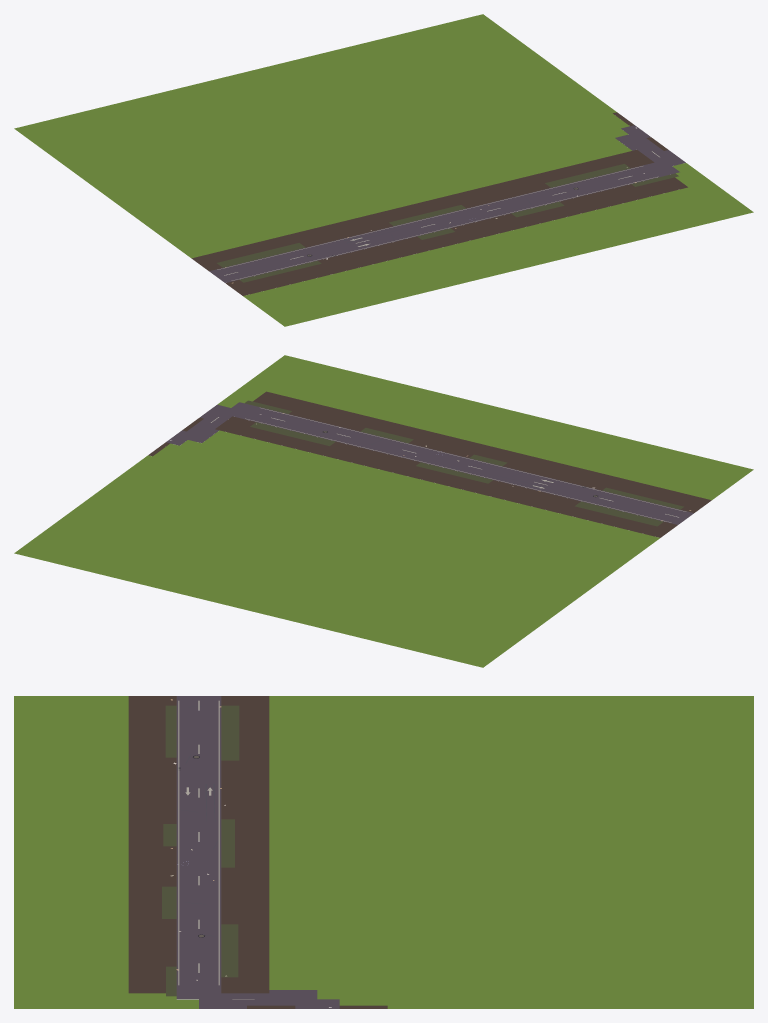
The model's file is cure-32-1.glb.
3 renders of one model, top to bottom at view 1: azimuth 30°, elevation 25°; view 2: azimuth 150°, elevation 25°; view 3: azimuth 270°, elevation 25°, orthographic. The views are drawn at different scales.
Visible parts, largest first — view 1: cure-32-1; view 2: cure-32-1; view 3: cure-32-1.
Boxes of the visible parts, x1,y1,x2,y2 form: cure-32-1: (14, 14, 753, 326); cure-32-1: (14, 355, 753, 667); cure-32-1: (14, 696, 753, 1008).
Bounding box in the file's own units: 100 × 0.017 × 100.
